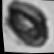correct: (3, 0, 53, 51)
